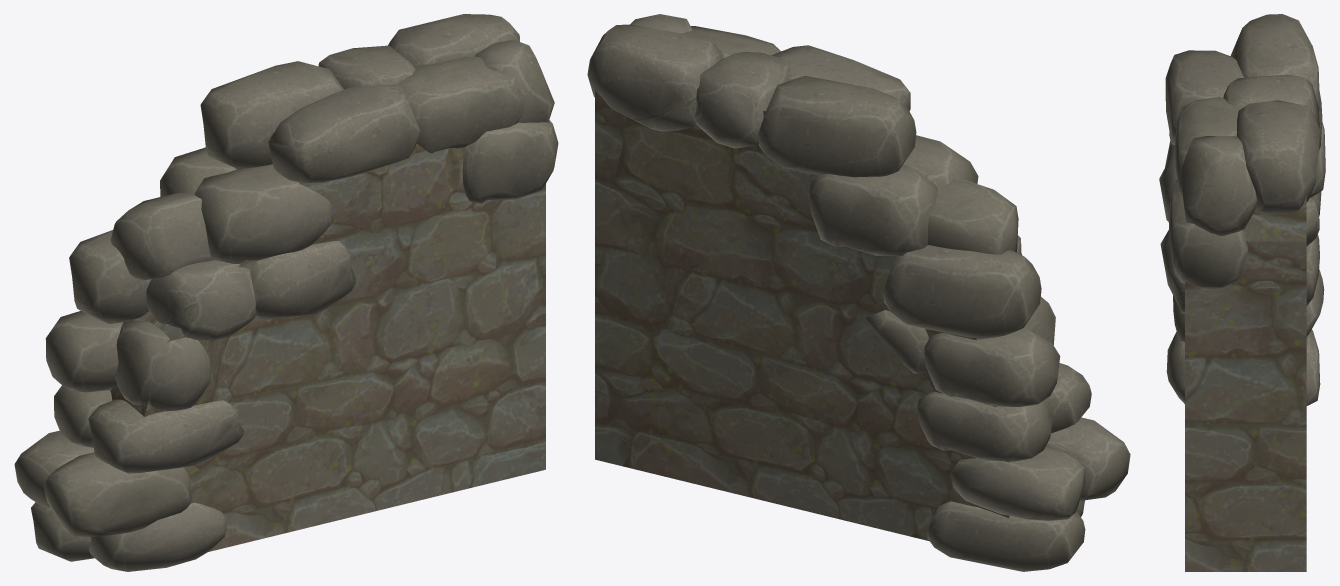
The model's file is SM_FW01_Ruins_Int_Wall_A_2x2_Brkn_01.fbx.
The picture shows the model from 3 angles, left to right: view 1: azimuth 30°, elevation 25°; view 2: azimuth 150°, elevation 25°; view 3: azimuth 270°, elevation 25°; orthographic projection.
Parts seen in each view (by area): view 1: SM_FW01_Ruins_Int_Wall_A_2x2_Brkn_01_LOD0, SM_FW01_Ruins_Int_Wall_A_2x2_Brkn_01; view 2: SM_FW01_Ruins_Int_Wall_A_2x2_Brkn_01, SM_FW01_Ruins_Int_Wall_A_2x2_Brkn_01_LOD0; view 3: SM_FW01_Ruins_Int_Wall_A_2x2_Brkn_01, SM_FW01_Ruins_Int_Wall_A_2x2_Brkn_01_LOD0.
Part boxes in pixels (x1=…): SM_FW01_Ruins_Int_Wall_A_2x2_Brkn_01_LOD0: x1=14, y1=14, x2=558, y2=571; SM_FW01_Ruins_Int_Wall_A_2x2_Brkn_01: x1=110, y1=111, x2=545, y2=551; SM_FW01_Ruins_Int_Wall_A_2x2_Brkn_01: x1=595, y1=88, x2=1009, y2=541; SM_FW01_Ruins_Int_Wall_A_2x2_Brkn_01_LOD0: x1=587, y1=14, x2=1130, y2=571; SM_FW01_Ruins_Int_Wall_A_2x2_Brkn_01: x1=1185, y1=195, x2=1306, y2=571; SM_FW01_Ruins_Int_Wall_A_2x2_Brkn_01_LOD0: x1=1159, y1=14, x2=1325, y2=405.
Size of what is drawn, in the model's own units: 2.38 by 2.01 by 0.6857.
